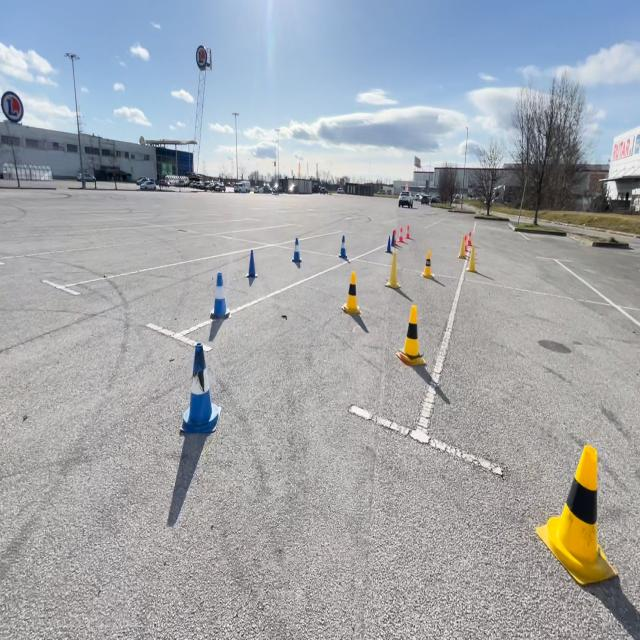blue_cone: (180, 341, 219, 434), (208, 270, 231, 320), (244, 247, 259, 282), (290, 236, 302, 264), (338, 234, 350, 261), (384, 233, 392, 254)
orange_cone: (464, 229, 474, 255), (463, 231, 472, 253), (392, 227, 400, 245), (404, 224, 411, 240)
yellow_cone: (533, 442, 618, 587), (396, 303, 426, 364), (342, 270, 362, 314), (384, 241, 401, 289), (421, 248, 434, 278), (466, 246, 476, 273), (458, 232, 467, 260)
